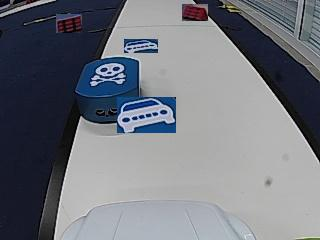danger: (90, 63, 123, 86)
